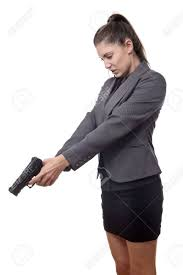gun: (7, 154, 55, 198)
